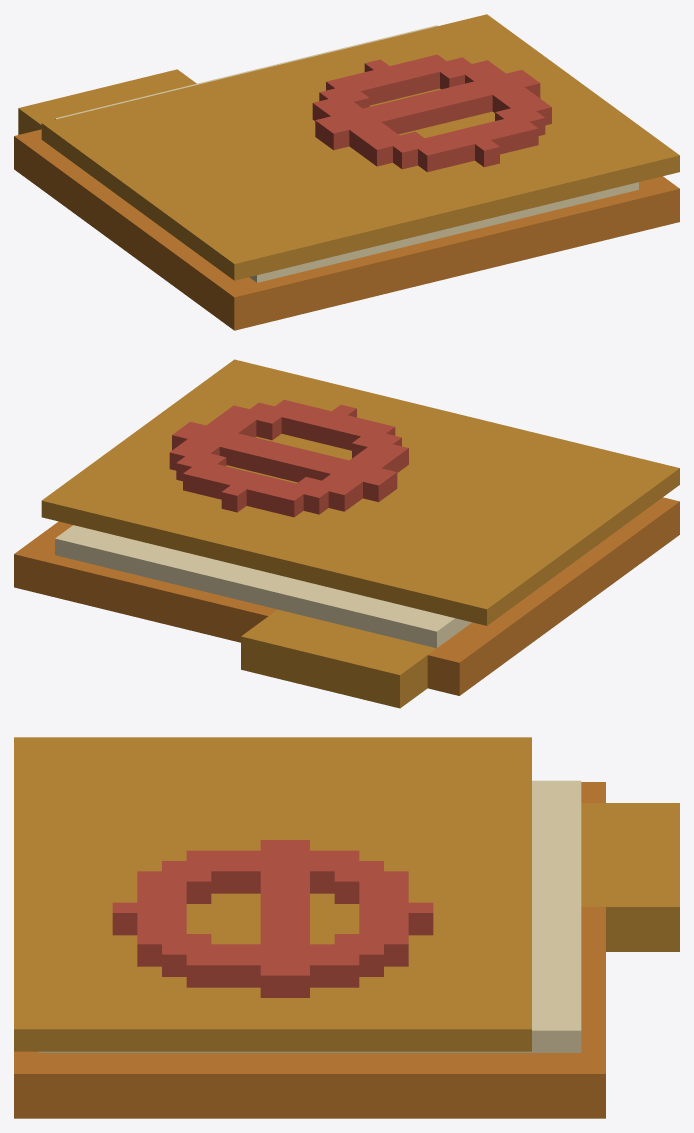
Rendered from voxel_32_30045.glb.
3 renders of one model, top to bottom at view 1: azimuth 30°, elevation 25°; view 2: azimuth 150°, elevation 25°; view 3: azimuth 270°, elevation 25°, orthographic. The views are drawn at different scales.
Visible parts, largest first — view 1: prop_30045; view 2: prop_30045; view 3: prop_30045.
Boxes of the visible parts, x1,y1,x2,y2 form: prop_30045: (14, 14, 679, 330); prop_30045: (14, 359, 679, 708); prop_30045: (14, 737, 679, 1118).
Bounding box in the file's own units: 0.7262 × 0.1297 × 0.7003.
